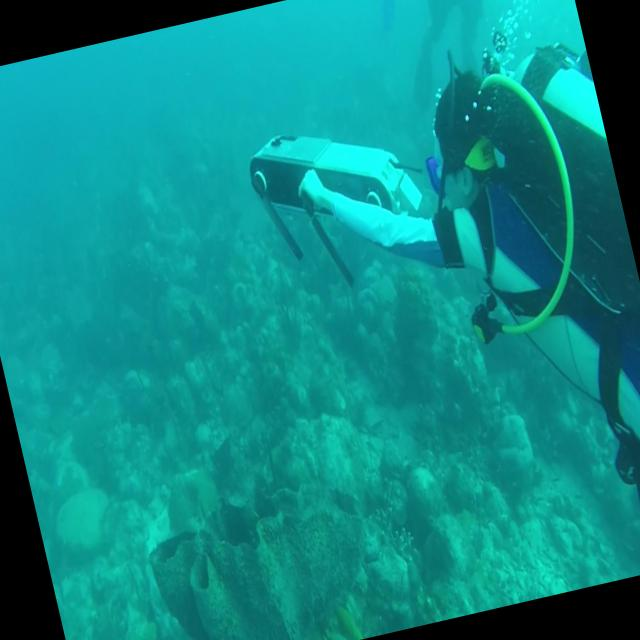human: (251, 21, 640, 598)
